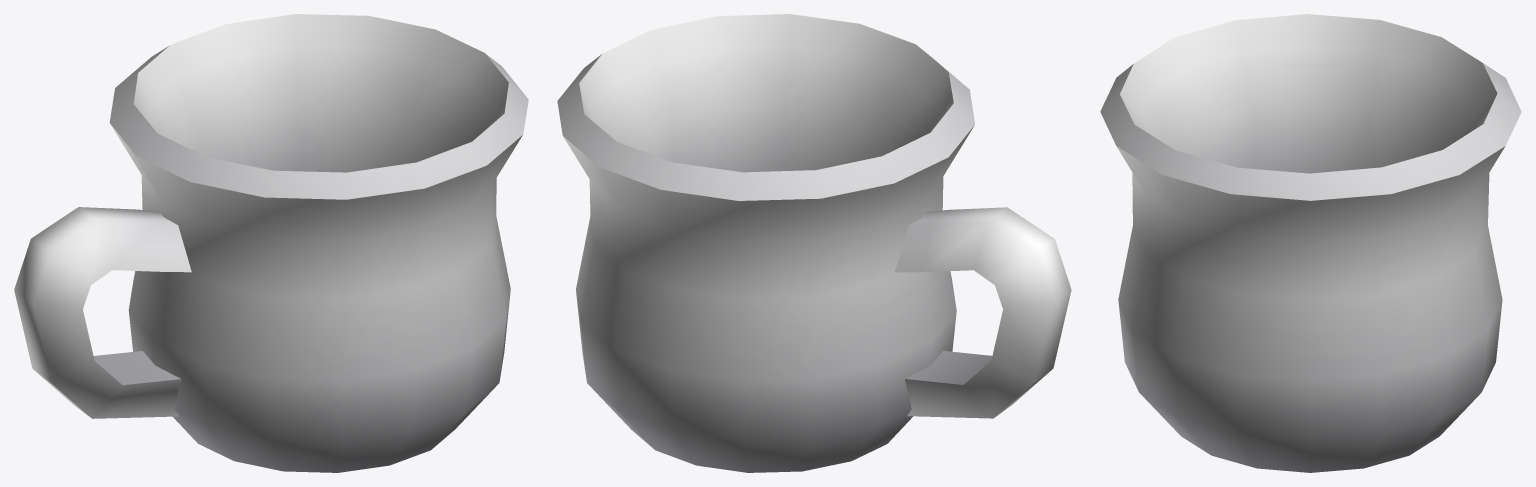
File: m_FancyCup01.fbx
The picture shows the model from 3 angles, left to right: view 1: azimuth 30°, elevation 25°; view 2: azimuth 150°, elevation 25°; view 3: azimuth 270°, elevation 25°; orthographic projection.
Visible parts, largest first — view 1: m_FancyCup01; view 2: m_FancyCup01; view 3: m_FancyCup01.
Part boxes in pixels (x1=…): m_FancyCup01: x1=14, y1=14, x2=528, y2=472; m_FancyCup01: x1=557, y1=14, x2=1071, y2=472; m_FancyCup01: x1=1100, y1=14, x2=1521, y2=472.
Bounding box in the file's own units: 12.19 × 7.81 × 9.32.
